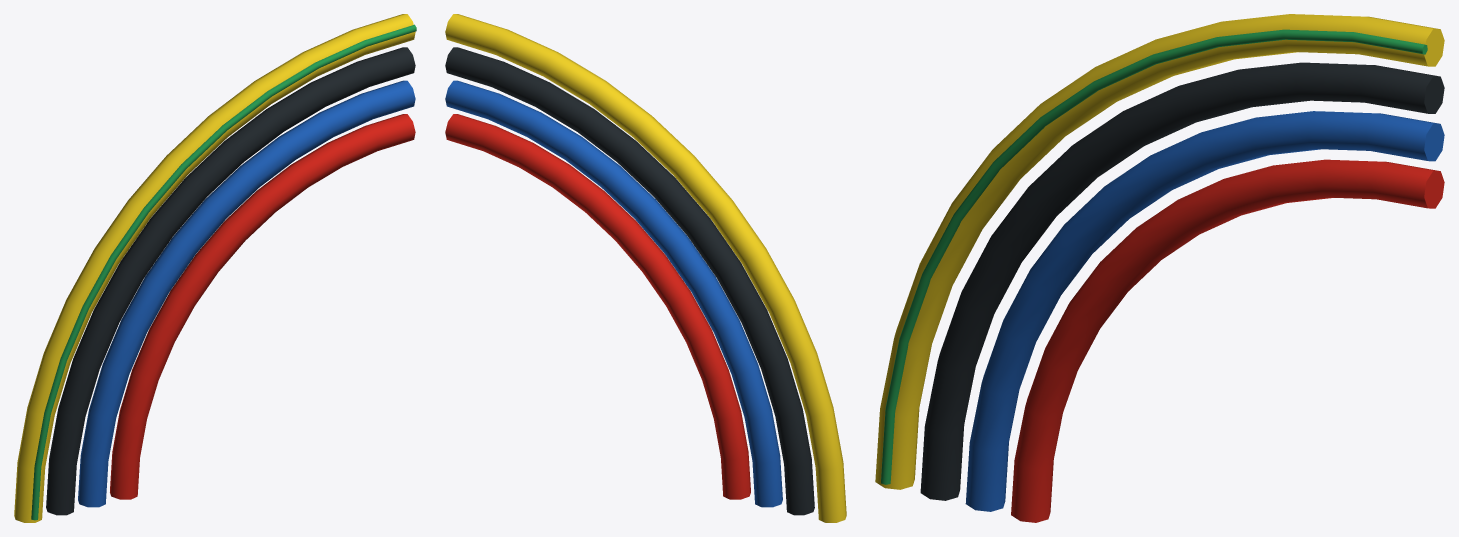
File: CableElbow.fbx
The picture shows the model from 3 angles, left to right: view 1: azimuth 30°, elevation 25°; view 2: azimuth 150°, elevation 25°; view 3: azimuth 330°, elevation 25°; orthographic projection. The views are drawn at different scales.
Parts seen in each view (by area): view 1: MR_CableElbow_Body; view 2: MR_CableElbow_Body; view 3: MR_CableElbow_Body.
Part boxes in pixels (<box>): MR_CableElbow_Body: <box>14,14,416,522</box>; MR_CableElbow_Body: <box>445,14,846,522</box>; MR_CableElbow_Body: <box>875,14,1444,522</box>.
Bounding box in the file's own units: 0.3457 × 0.3457 × 0.0236.
